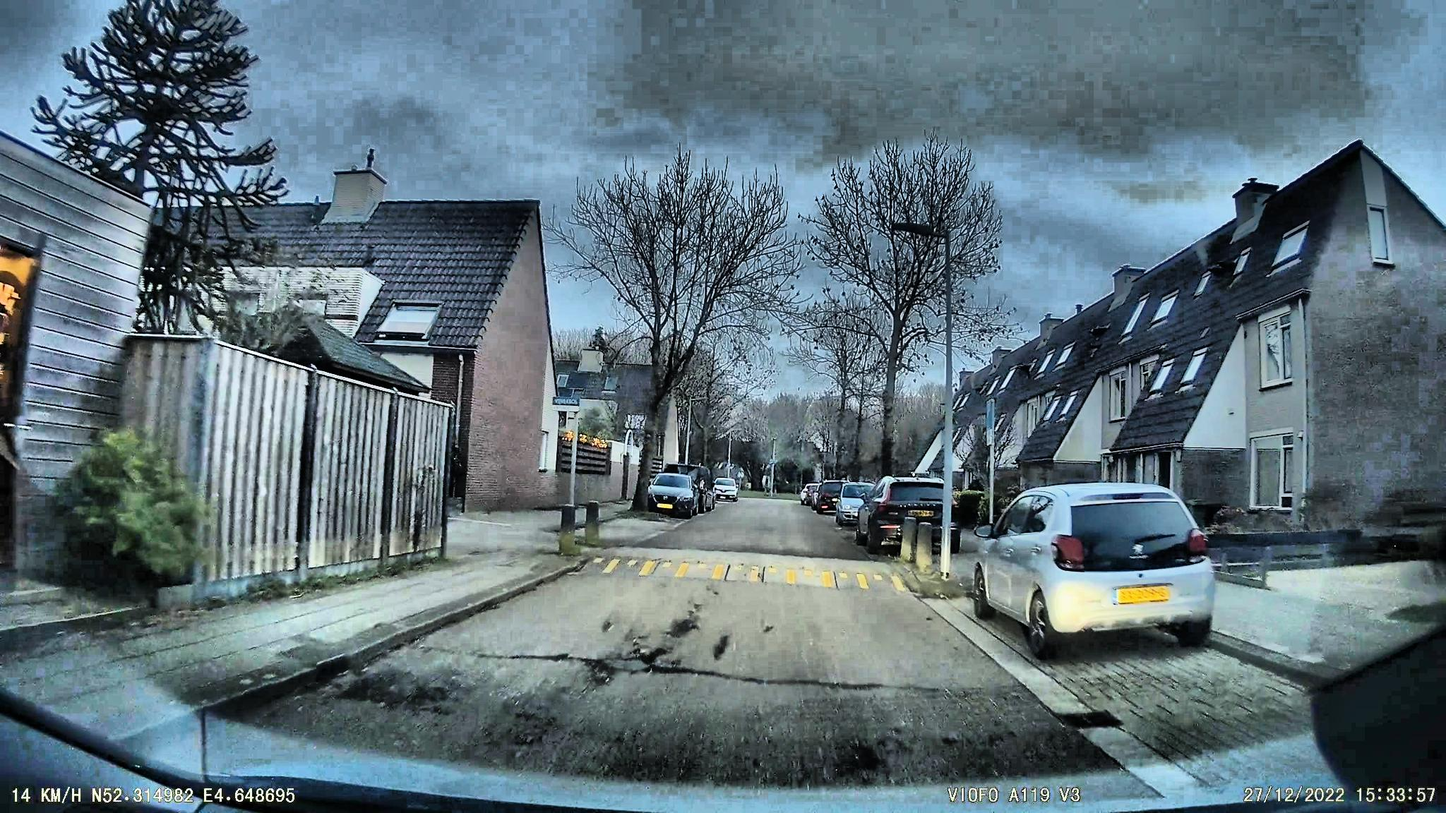Roads: (201, 499, 1383, 813)
